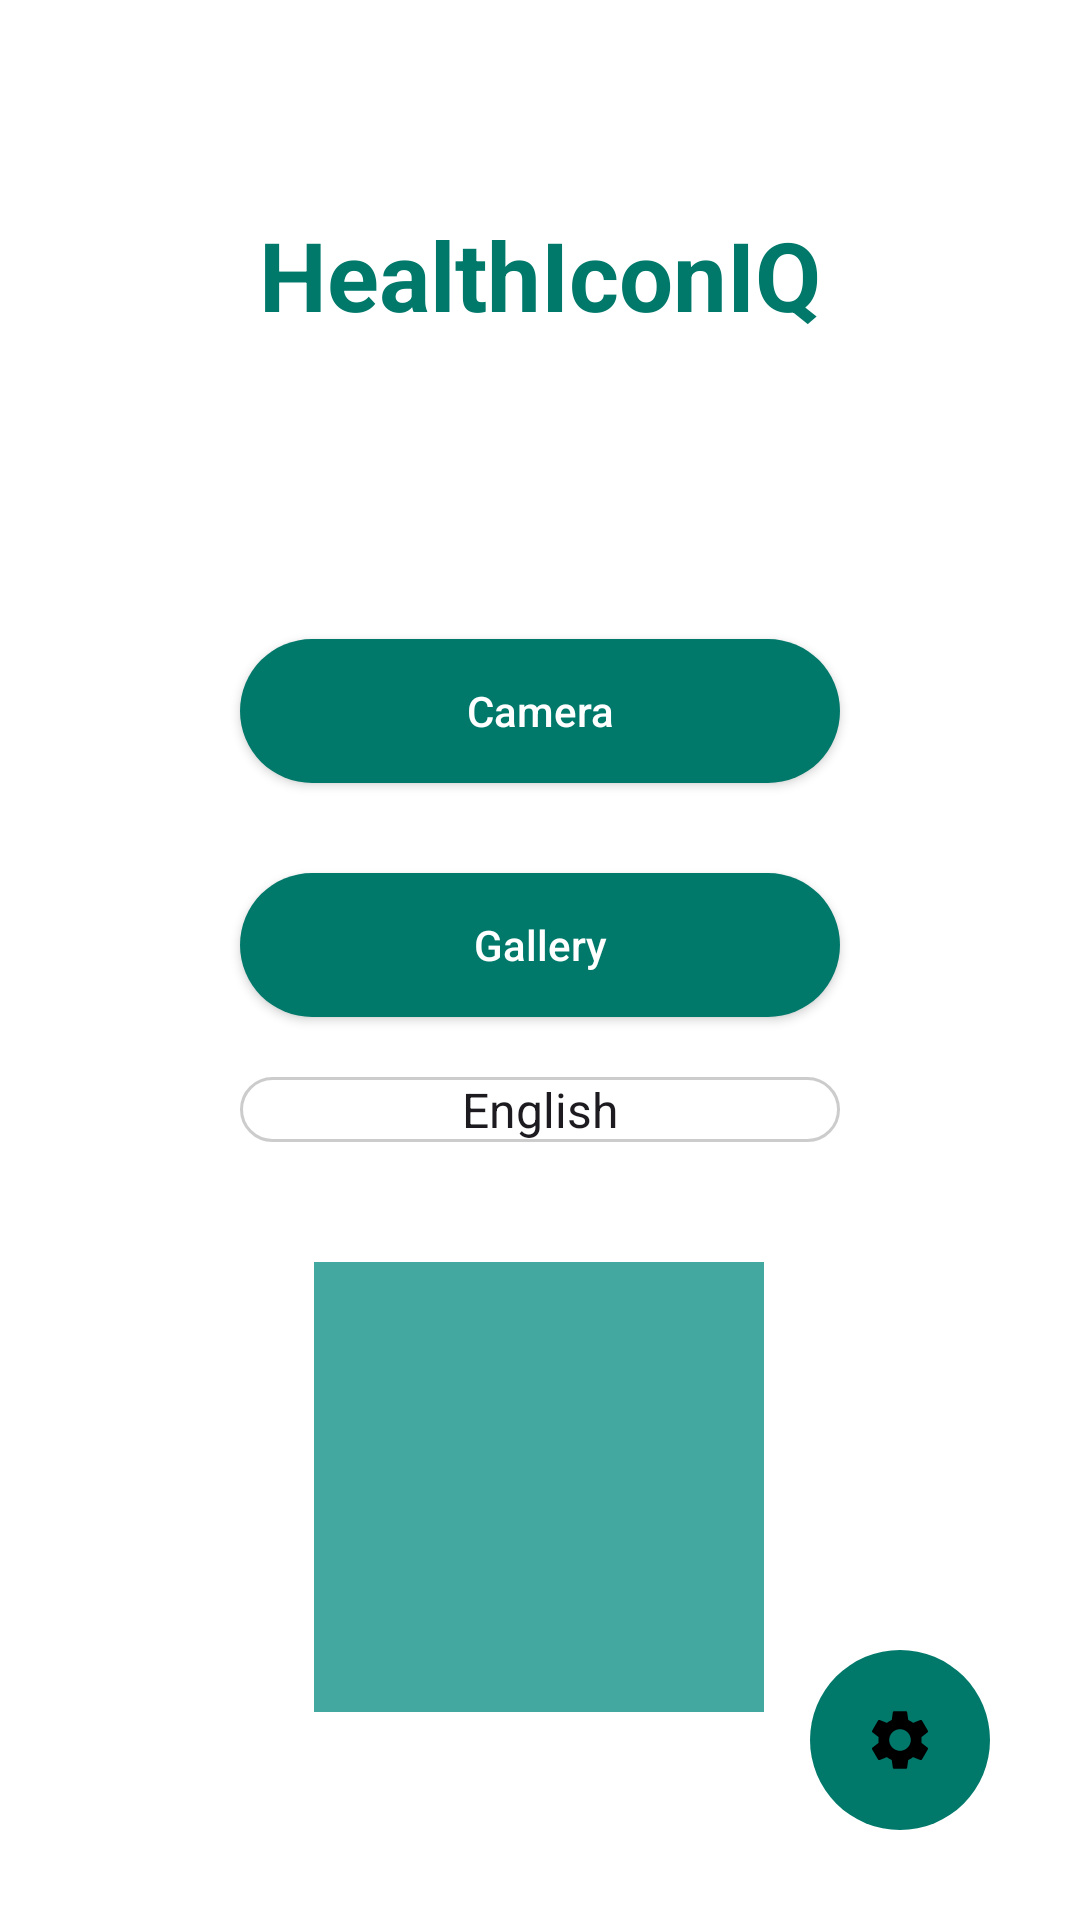

Icon click points for this 1080w x 1920h phone screenshot, format point (x, y):
settings: point (900, 1740)
